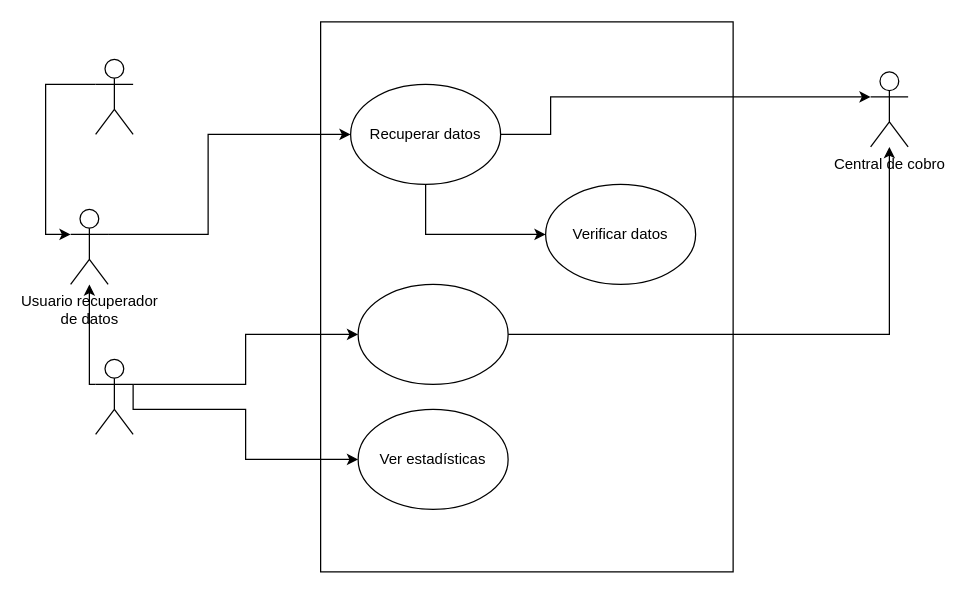
This 966x604 diagram has some shape labels left out. The shapes that lost their labels are listed below. From the top down, each one's centre as x and y in pixels, then its label:
pixel 113 96: Empleado
pixel 432 333: Registrar pagos
pixel 113 396: Gerente
